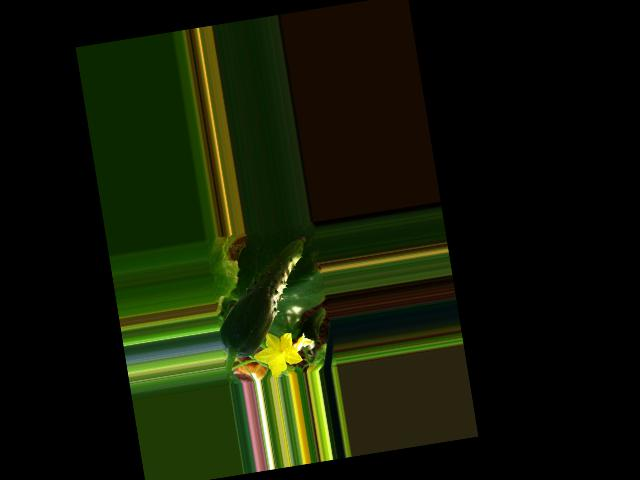cucumber: (206, 235, 323, 360)
